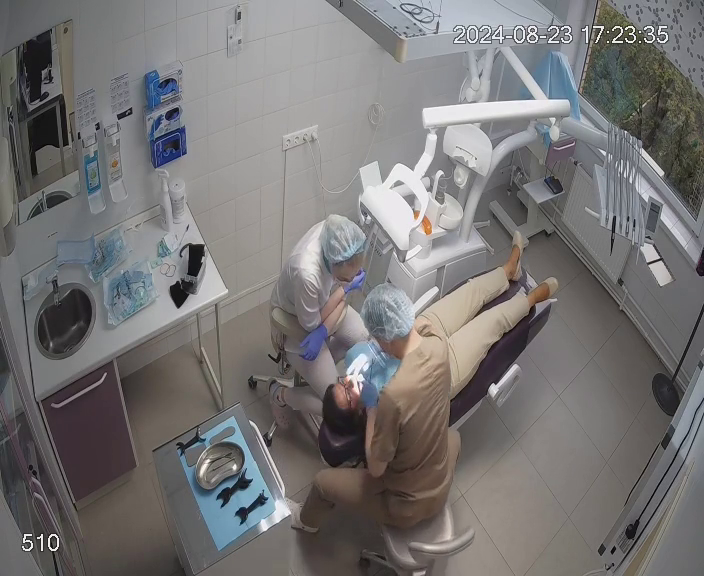Patient: (316, 227, 560, 469)
